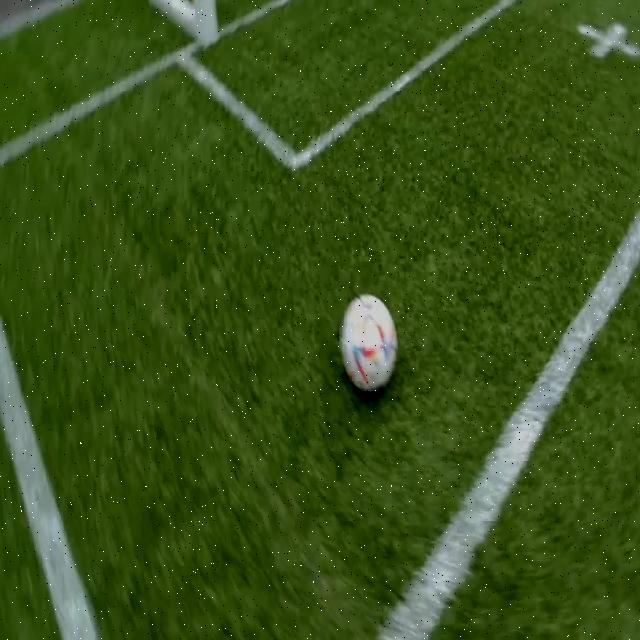ball: (342, 294, 398, 391)
goalpost: (185, 0, 224, 52)
